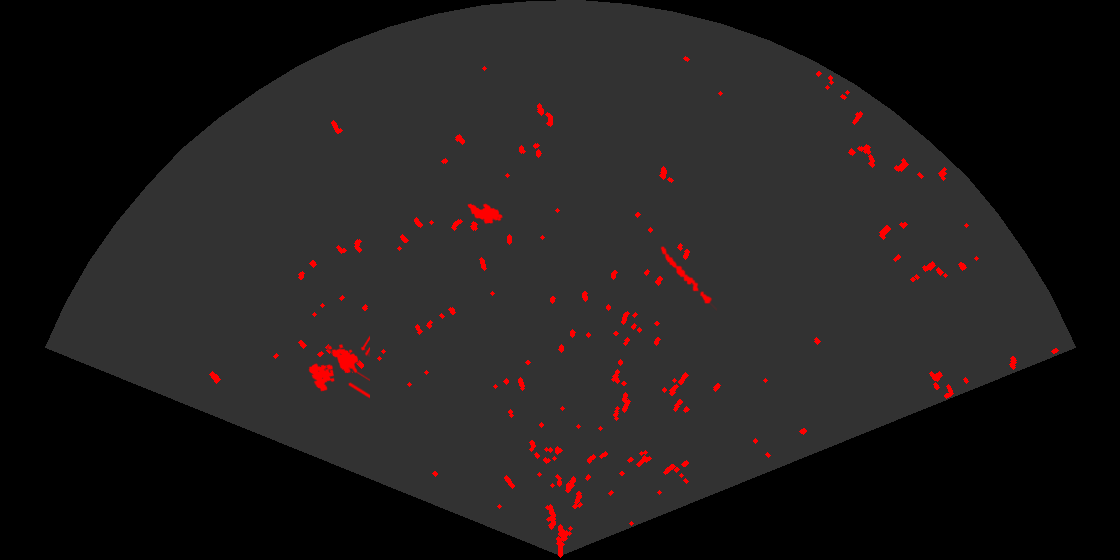AUV: (466, 202, 505, 226)
cage: (307, 334, 370, 400)
chain: (659, 244, 717, 312)
